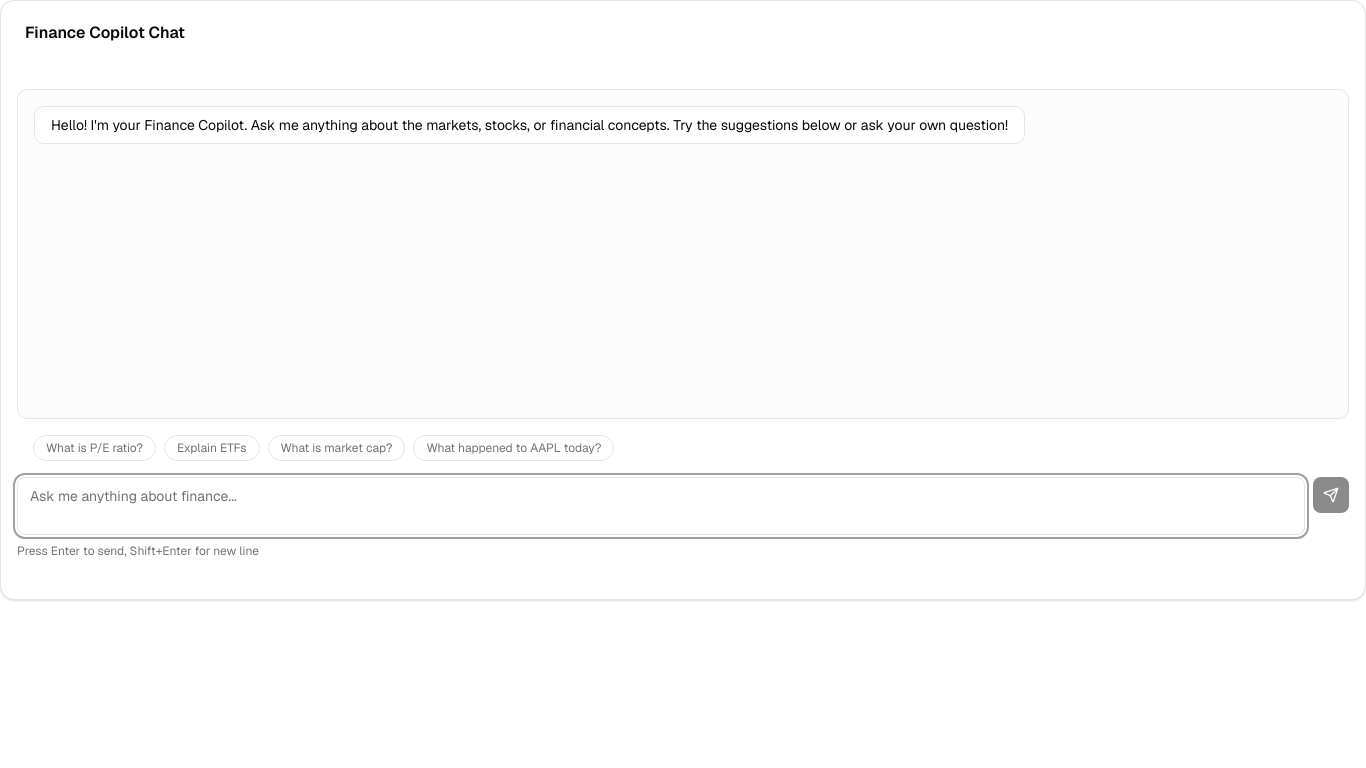
Test case: Chat Component › shows loading indicator when sending message
This screenshot has width=1366, height=768.
Type "Test message" into the text box with placeholder "Ask me anything about finance...".
click(661, 506); type("Test message")  # box [17,477,1305,535]
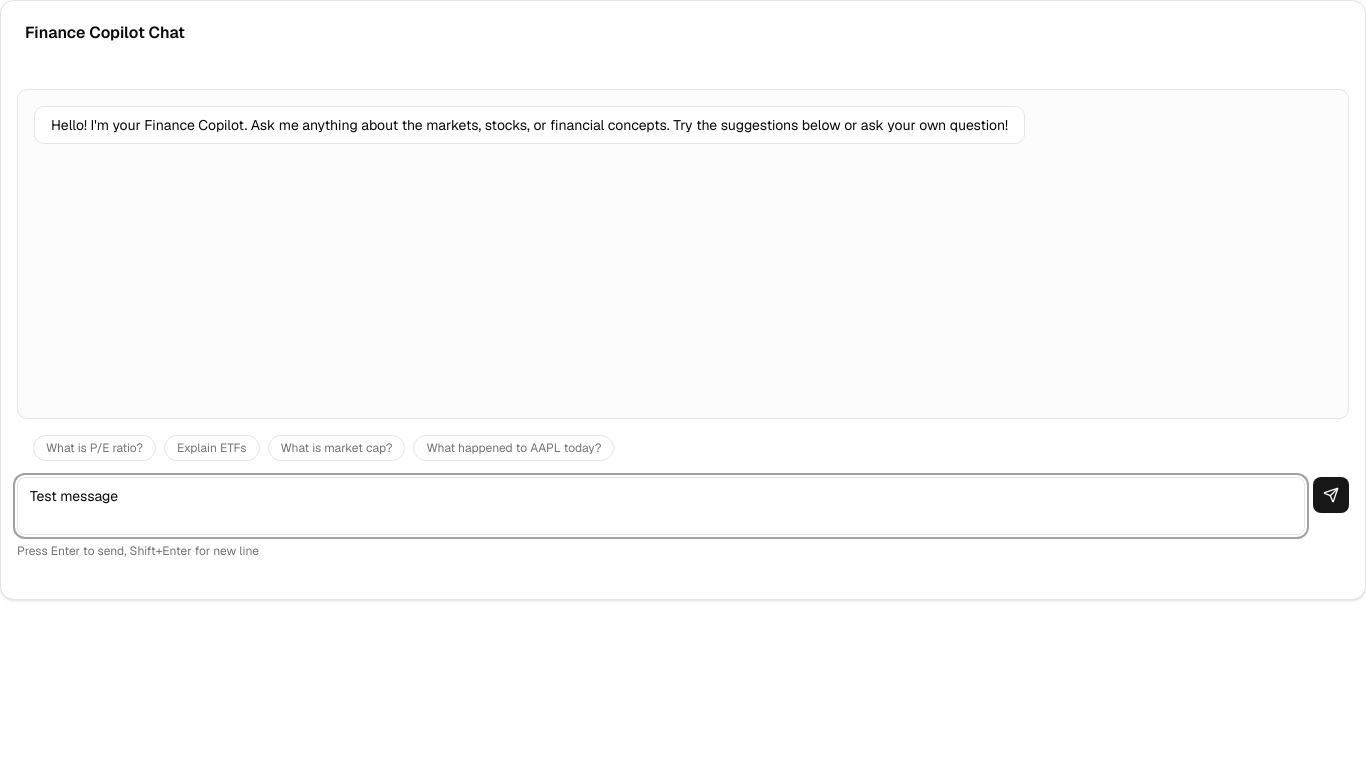
Click the 5th button.
click(1331, 495)  # box [1313,477,1349,513]
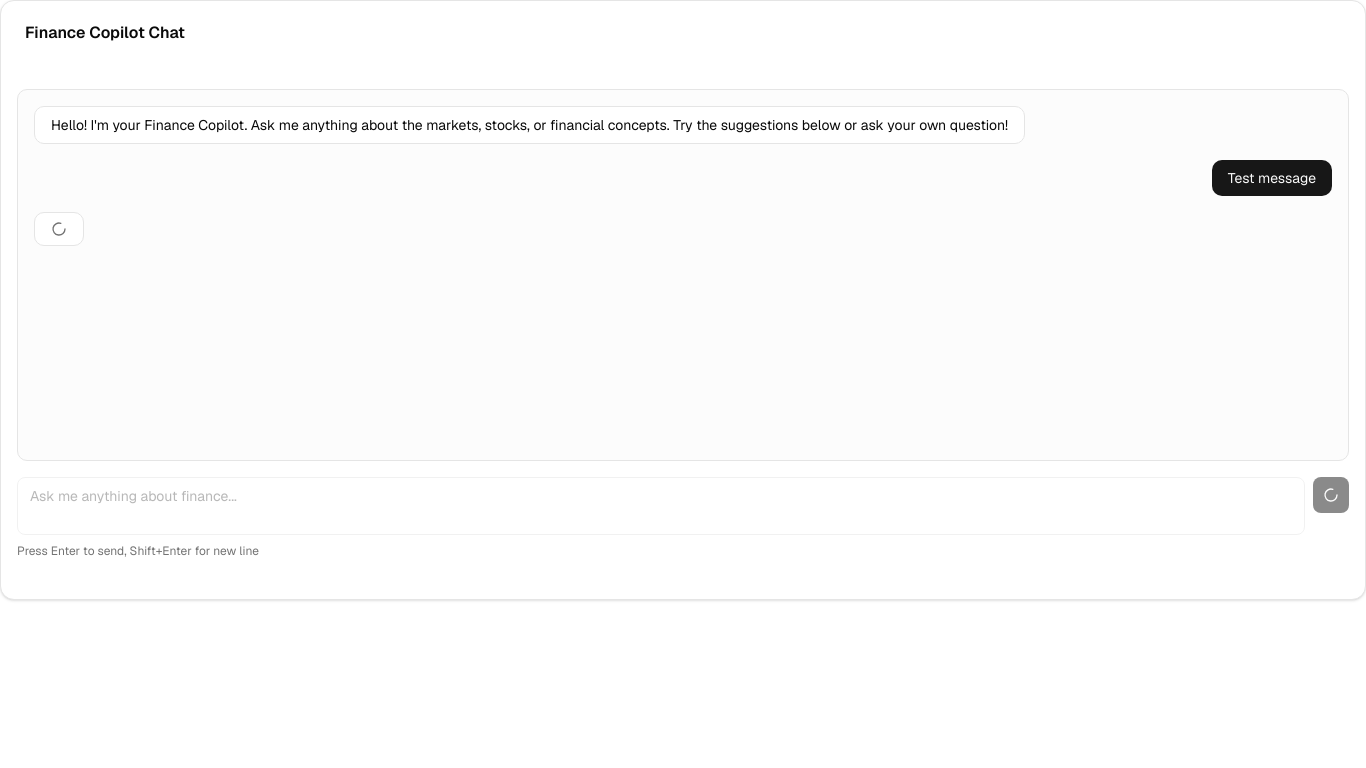
Expected: the text box with placeholder "Ask me anything about finance..." is disabled, [17,477,1305,535]
Expected: the button is disabled, [1313,477,1349,513]
